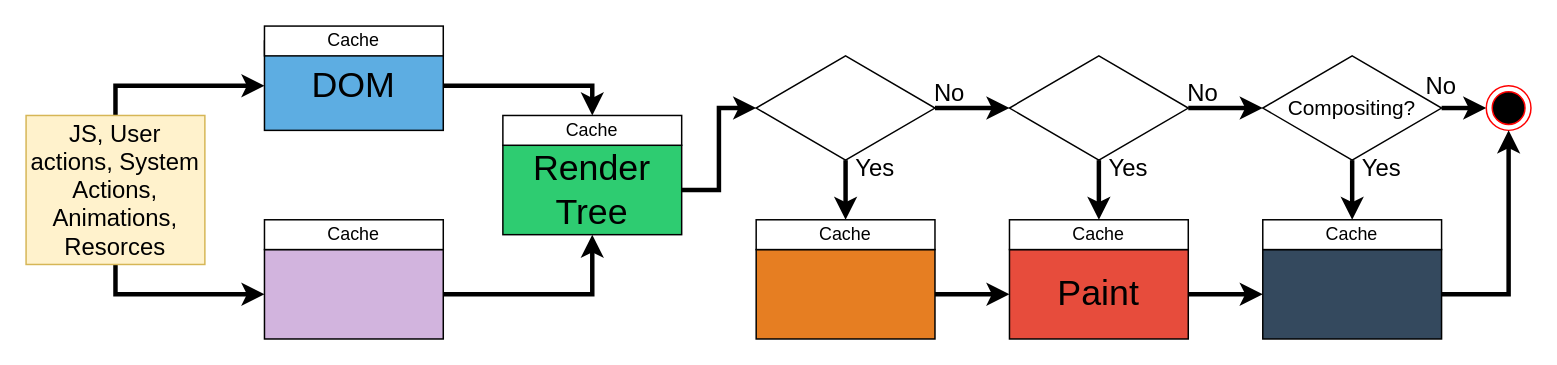
Some shapes in this 1557 by 365 pixel diagram are drawn without their labels. Each missing label, with the centre of its shape:
"Compositing" belongs at (1351,293).
"CSSOM" belongs at (353,293).
"Layout" belongs at (845,293).
"Layout?" belongs at (845,107).
"Paint ?" belongs at (1098,107).
